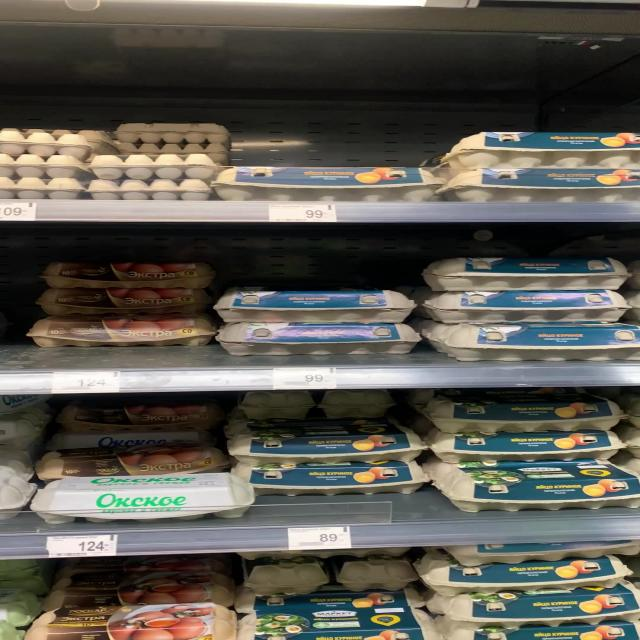egg box: (30, 477, 254, 525), (232, 415, 426, 465), (443, 464, 634, 513), (218, 161, 440, 201), (429, 321, 634, 362), (54, 562, 230, 608), (423, 288, 628, 327), (228, 459, 436, 497), (224, 320, 416, 359), (448, 127, 638, 166), (217, 284, 416, 321), (28, 604, 234, 639), (427, 556, 632, 591), (428, 397, 622, 433), (28, 444, 227, 479), (429, 256, 634, 289), (433, 589, 638, 622), (448, 167, 638, 201), (434, 431, 625, 464), (21, 316, 215, 347), (236, 608, 428, 639), (36, 285, 203, 318), (239, 581, 424, 610), (57, 402, 220, 434), (44, 258, 205, 288), (433, 616, 634, 637)
